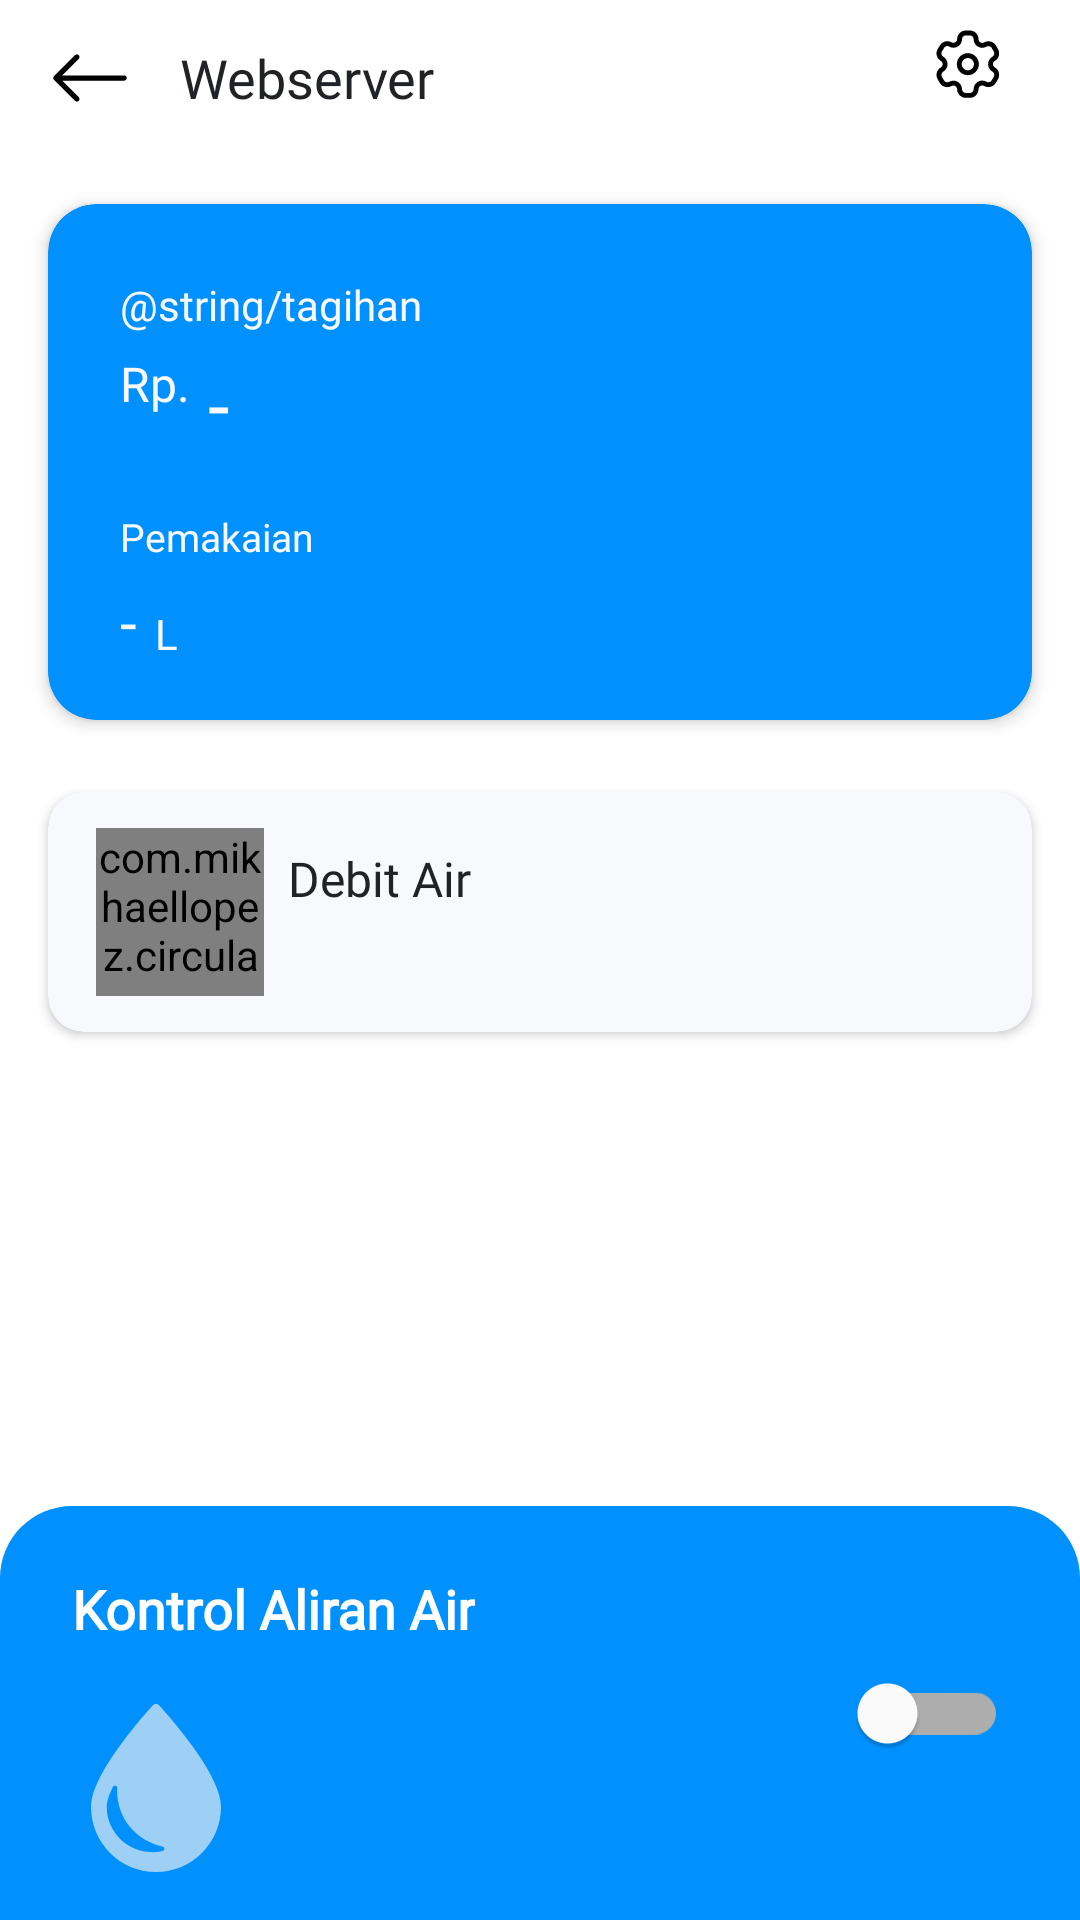

Named icons in this screenshot (1080px×1920px) and their centers, (x=x, y=y):
back: (x=90, y=78)
setting: (x=968, y=64)
water drop: (x=156, y=1788)
